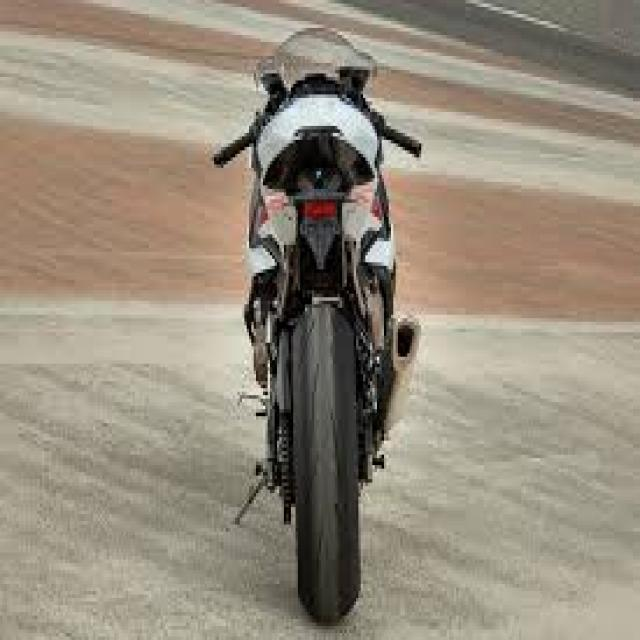Bike: (213, 26, 424, 627)
